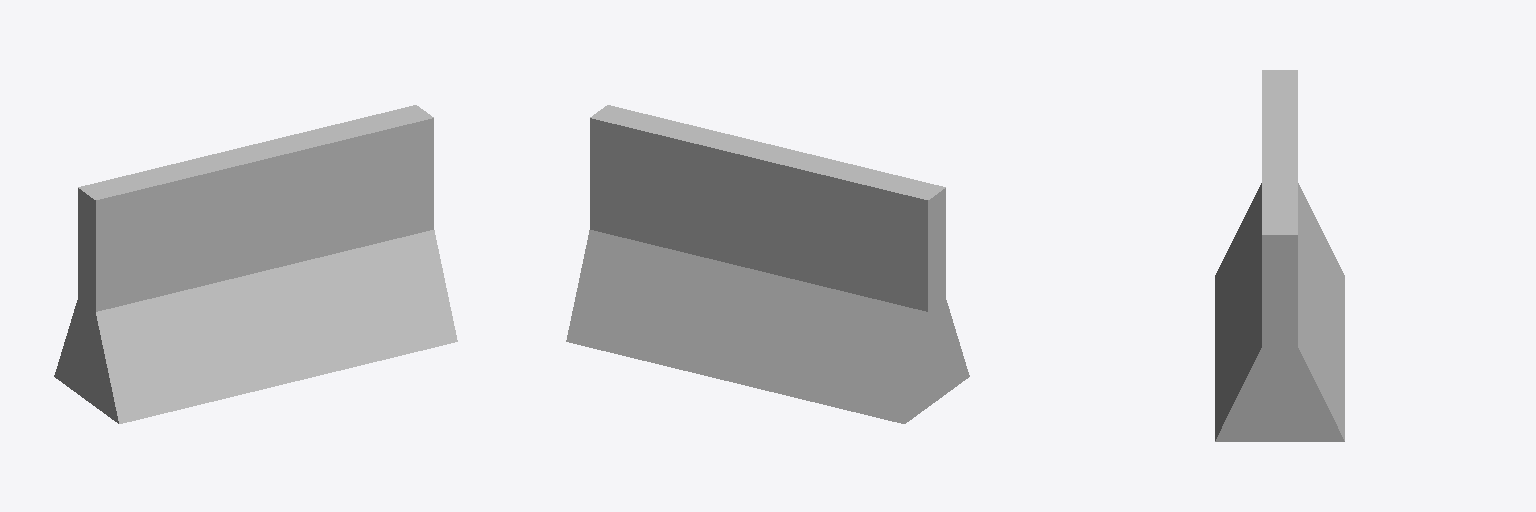
The model's file is concretebarrier.obj.
The picture shows the model from 3 angles: view 1: azimuth 30°, elevation 25°; view 2: azimuth 150°, elevation 25°; view 3: azimuth 270°, elevation 25°; orthographic projection.
Visible parts, largest first — view 1: Plane.003; view 2: Plane.003; view 3: Plane.003.
Part boxes in pixels (x1,y1,x2,y2): Plane.003: (54, 105, 457, 423); Plane.003: (566, 105, 969, 423); Plane.003: (1215, 70, 1344, 441).
Size of the model in its own units: 3 by 1.75 by 1.